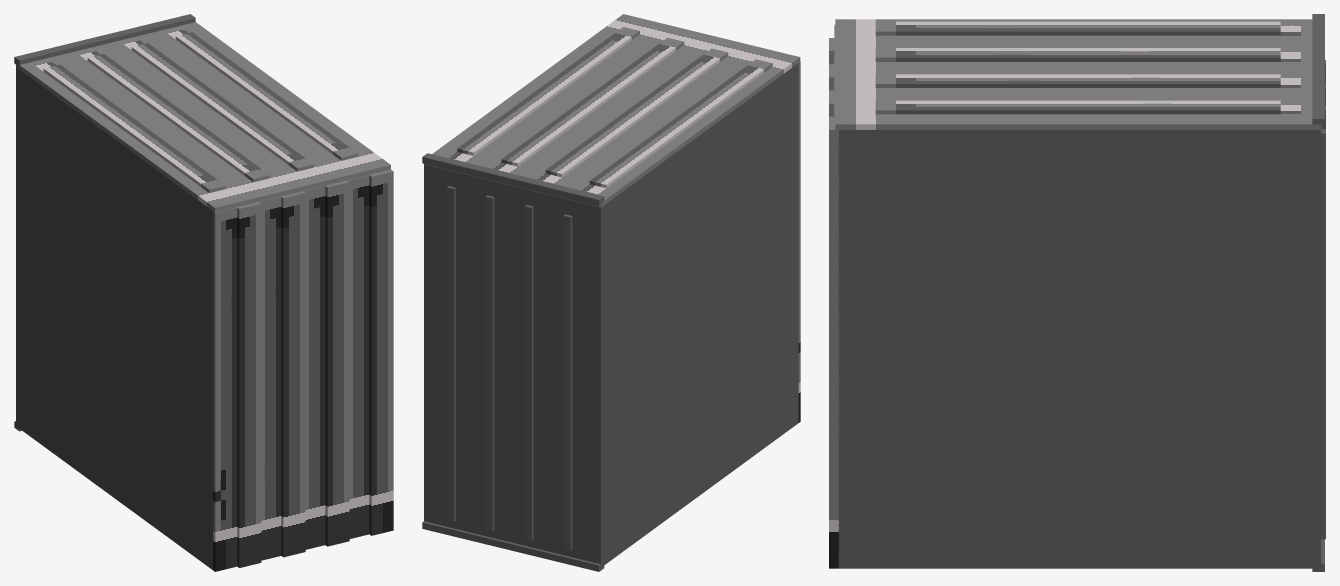
Rendered from CMU3DFreightAU14ContainerUSCMMiddle.glb.
3 views of the same model, side by side, from view 1: azimuth 30°, elevation 25°; view 2: azimuth 150°, elevation 25°; view 3: azimuth 270°, elevation 25° (orthographic). The views are drawn at different scales.
Parts seen in each view (by area): view 1: closed cargo shell, source-painted corrugated roof, painted corrugation 6, painted corrugation 4, painted corrugation 8, painted corrugation 2, painted corrugation 1, painted corrugation 3, painted corrugation 5, painted corrugation 7, source-painted roof ridge 4, source-painted roof ridge 1 (+3 smaller); view 2: closed cargo shell, source-painted corrugated roof, rear wall corrugation (×4), rear horizontal frame (×2), source-painted roof ridge 2, source-painted roof ridge 1, source-painted roof ridge 3, source-painted roof ridge 4, painted corrugation 1; view 3: closed cargo shell, source-painted corrugated roof, source-painted roof ridge 1, source-painted roof ridge 4, source-painted roof ridge 2, source-painted roof ridge 3, painted corrugation 8, rear wall corrugation, rear horizontal frame.
Boxes of the visible parts, left/top/right/bottom form: closed cargo shell: left=16, top=67, right=213, bottom=569; source-painted corrugated roof: left=16, top=22, right=390, bottom=212; painted corrugation 6: left=325, top=180, right=349, bottom=546; painted corrugation 4: left=281, top=191, right=305, bottom=557; painted corrugation 8: left=369, top=169, right=393, bottom=535; painted corrugation 2: left=237, top=202, right=261, bottom=567; painted corrugation 1: left=213, top=207, right=237, bottom=571; painted corrugation 3: left=259, top=196, right=281, bottom=560; painted corrugation 5: left=303, top=185, right=325, bottom=549; painted corrugation 7: left=347, top=175, right=369, bottom=538; source-painted roof ridge 4: left=175, top=32, right=357, bottom=160; source-painted roof ridge 1: left=43, top=64, right=225, bottom=192; closed cargo shell: left=424, top=63, right=798, bottom=566; source-painted corrugated roof: left=424, top=14, right=800, bottom=207; rear wall corrugation (×4): left=446, top=186, right=572, bottom=550; rear horizontal frame (×2): left=422, top=153, right=604, bottom=571; source-painted roof ridge 2: left=545, top=48, right=728, bottom=177; source-painted roof ridge 1: left=589, top=59, right=772, bottom=188; source-painted roof ridge 3: left=501, top=37, right=684, bottom=166; source-painted roof ridge 4: left=457, top=27, right=639, bottom=155; painted corrugation 1: left=798, top=61, right=800, bottom=422; closed cargo shell: left=838, top=130, right=1320, bottom=568; source-painted corrugated roof: left=835, top=19, right=1320, bottom=129; source-painted roof ridge 1: left=875, top=21, right=1280, bottom=35; source-painted roof ridge 4: left=875, top=100, right=1280, bottom=114; source-painted roof ridge 2: left=875, top=48, right=1280, bottom=61; source-painted roof ridge 3: left=875, top=74, right=1280, bottom=87; painted corrugation 8: left=829, top=116, right=839, bottom=568; rear wall corrugation: left=1321, top=129, right=1325, bottom=539; rear horizontal frame: left=1312, top=14, right=1324, bottom=126.
Bounding box in the file's own units: 1 × 2.01 × 2.
Materials: 8 (6 with a texture image).
